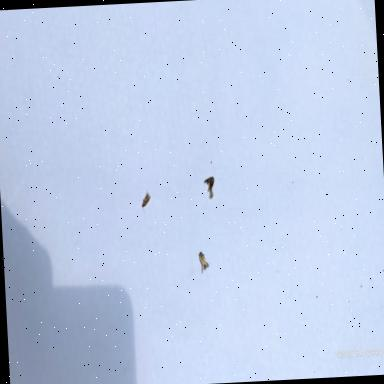pbw: (140, 188, 152, 210), (198, 250, 210, 272)
